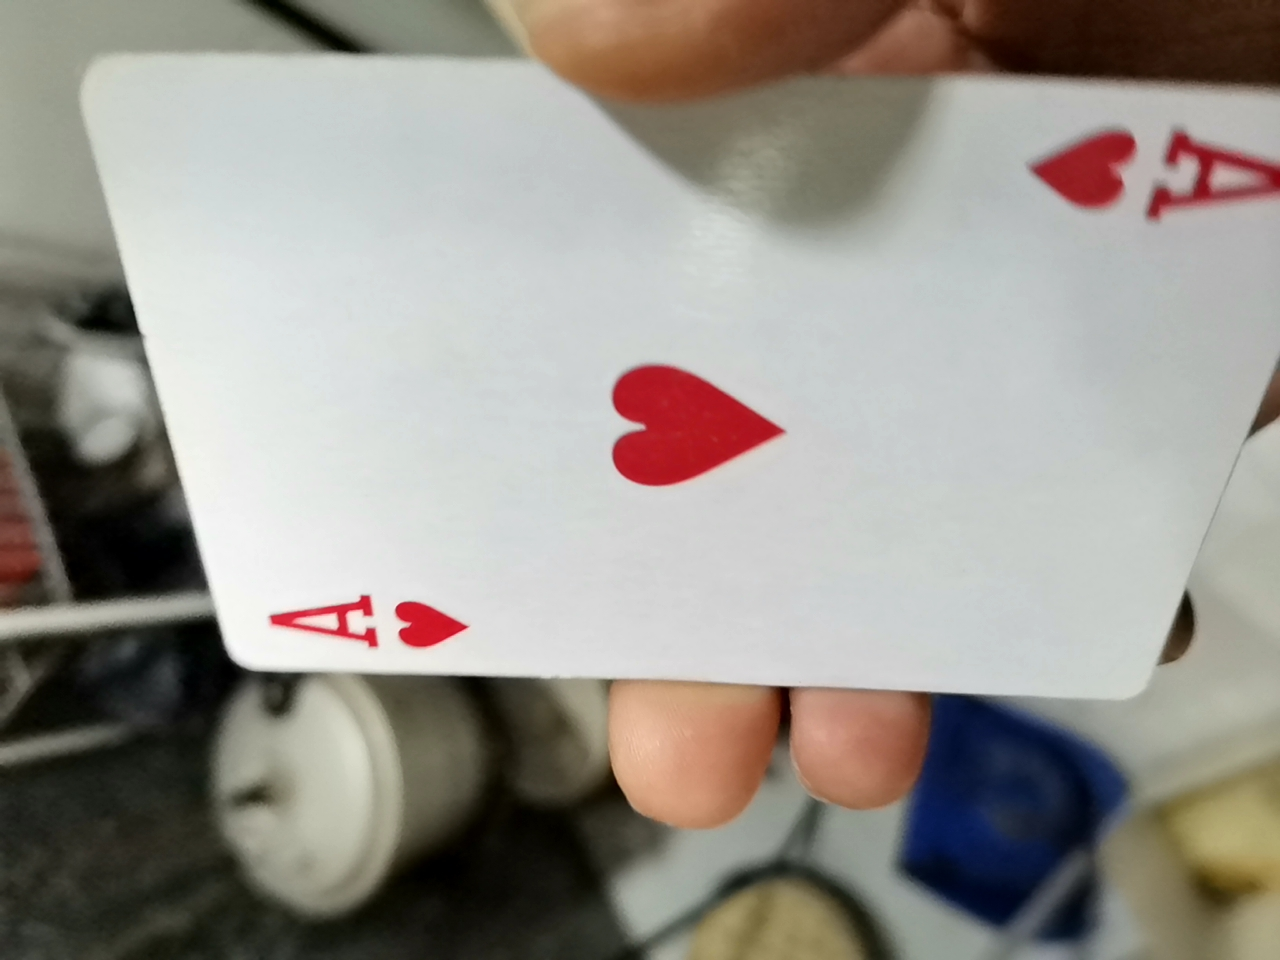hx a: (127, 61, 1265, 746)
